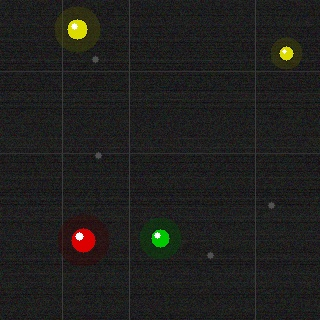green_normal: (149, 227, 171, 249)
red_fault: (69, 226, 97, 254)
yellow_warning: (65, 17, 89, 41), (277, 44, 295, 62)
